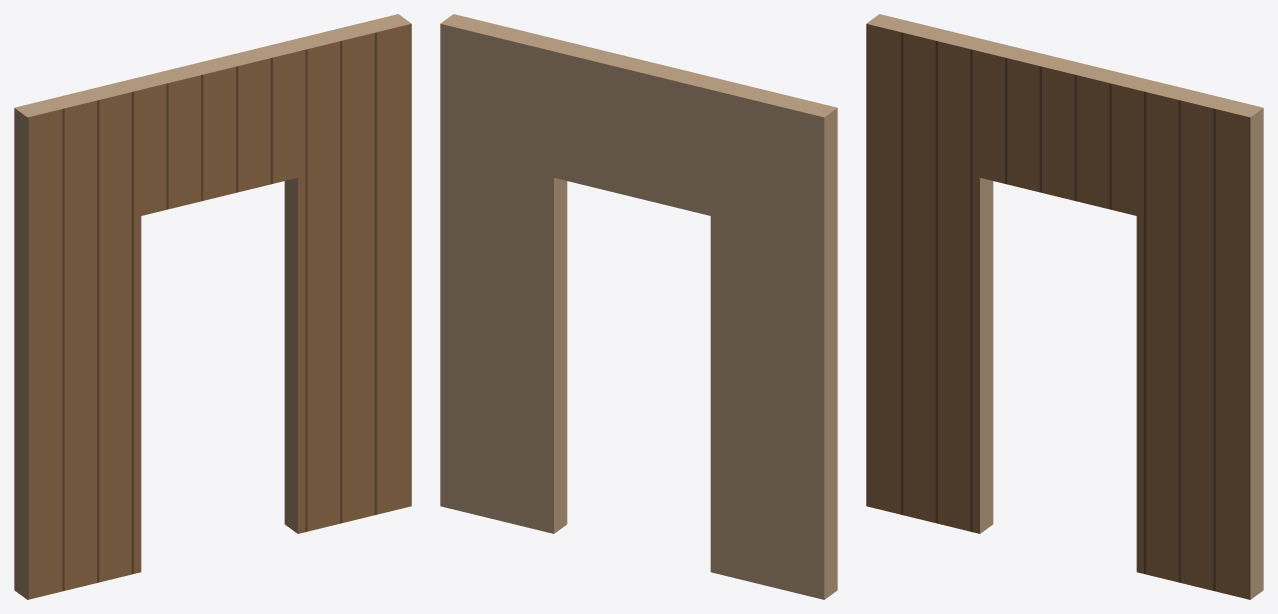
The model's file is Wall2_C9_02.fbx.
3 views of the same model, side by side, from view 1: azimuth 30°, elevation 25°; view 2: azimuth 150°, elevation 25°; view 3: azimuth 330°, elevation 25° (orthographic).
Visible parts, largest first — view 1: Wall2_C9_02; view 2: Wall2_C9_02; view 3: Wall2_C9_02.
Boxes of the visible parts, box(x1,y1,x2,y2) form: Wall2_C9_02: box(14, 14, 411, 599); Wall2_C9_02: box(440, 14, 837, 599); Wall2_C9_02: box(866, 14, 1263, 599).
Size of the model in its own units: 250 by 300 by 15.
